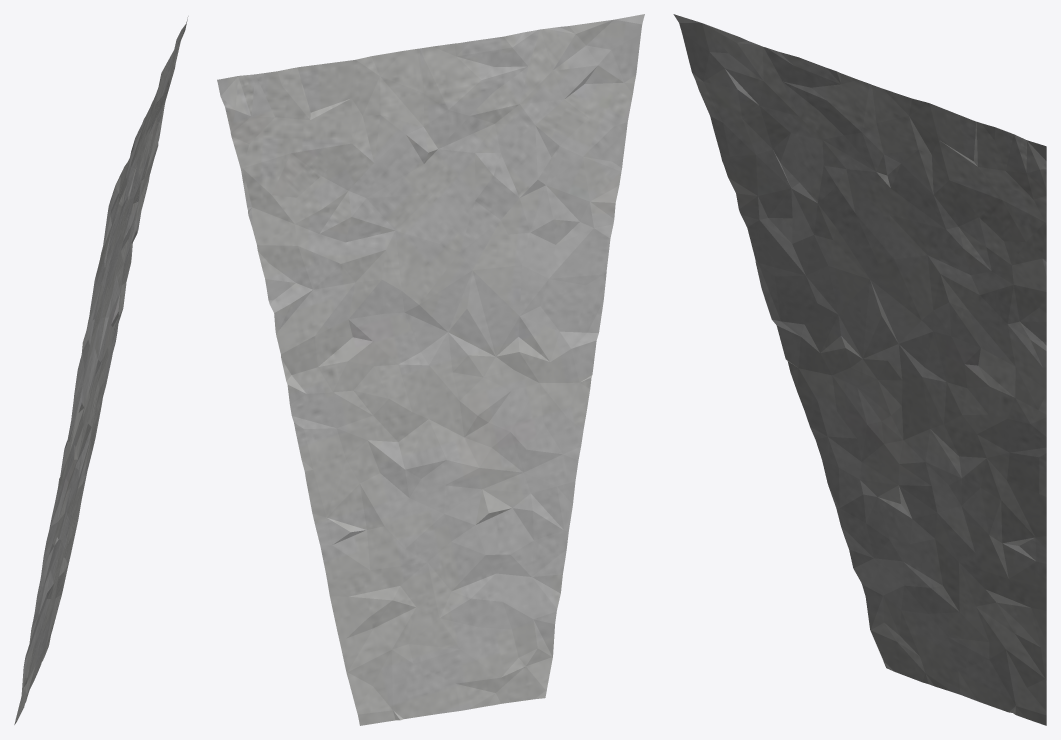
The picture shows the model from 3 angles, left to right: view 1: azimuth 30°, elevation 25°; view 2: azimuth 150°, elevation 25°; view 3: azimuth 270°, elevation 25°; orthographic projection. The views are drawn at different scales.
Size of the model in its own units: 0.3635 by 0.8374 by 0.4332.
1 material, 1 textured.
